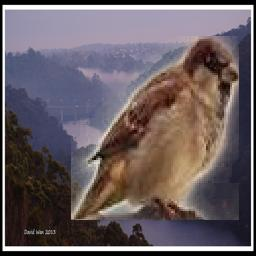Sparrow: (71, 36, 239, 220)
